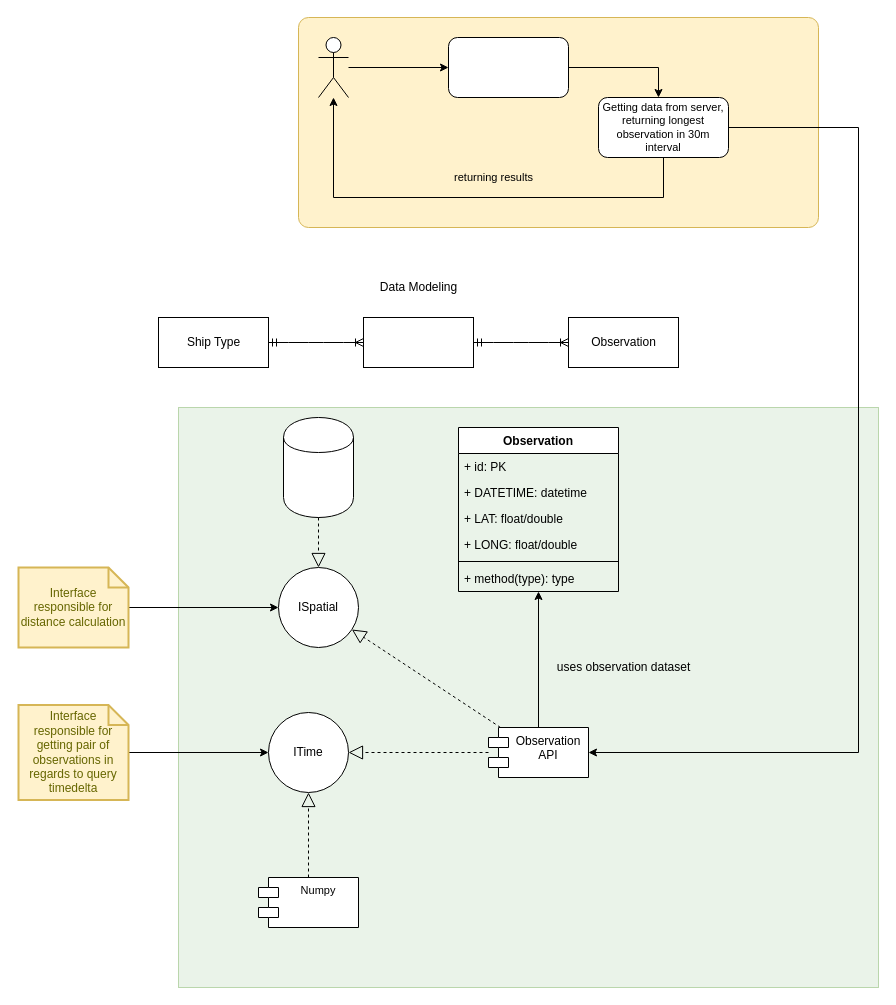
The diagram is 896 pixels wide and 1005 high, and some of its shapes have lost their labels. The box of each missing label's shape, as (x1, y1, x2, y2) in pixels:
PostgreSQL: (282, 416, 354, 518)
Selecting Observation: (298, 16, 818, 228)
Selecting Parameters: Ship type, Ship name: (448, 36, 568, 98)
Ship: (362, 316, 474, 368)
User: (318, 36, 348, 98)
